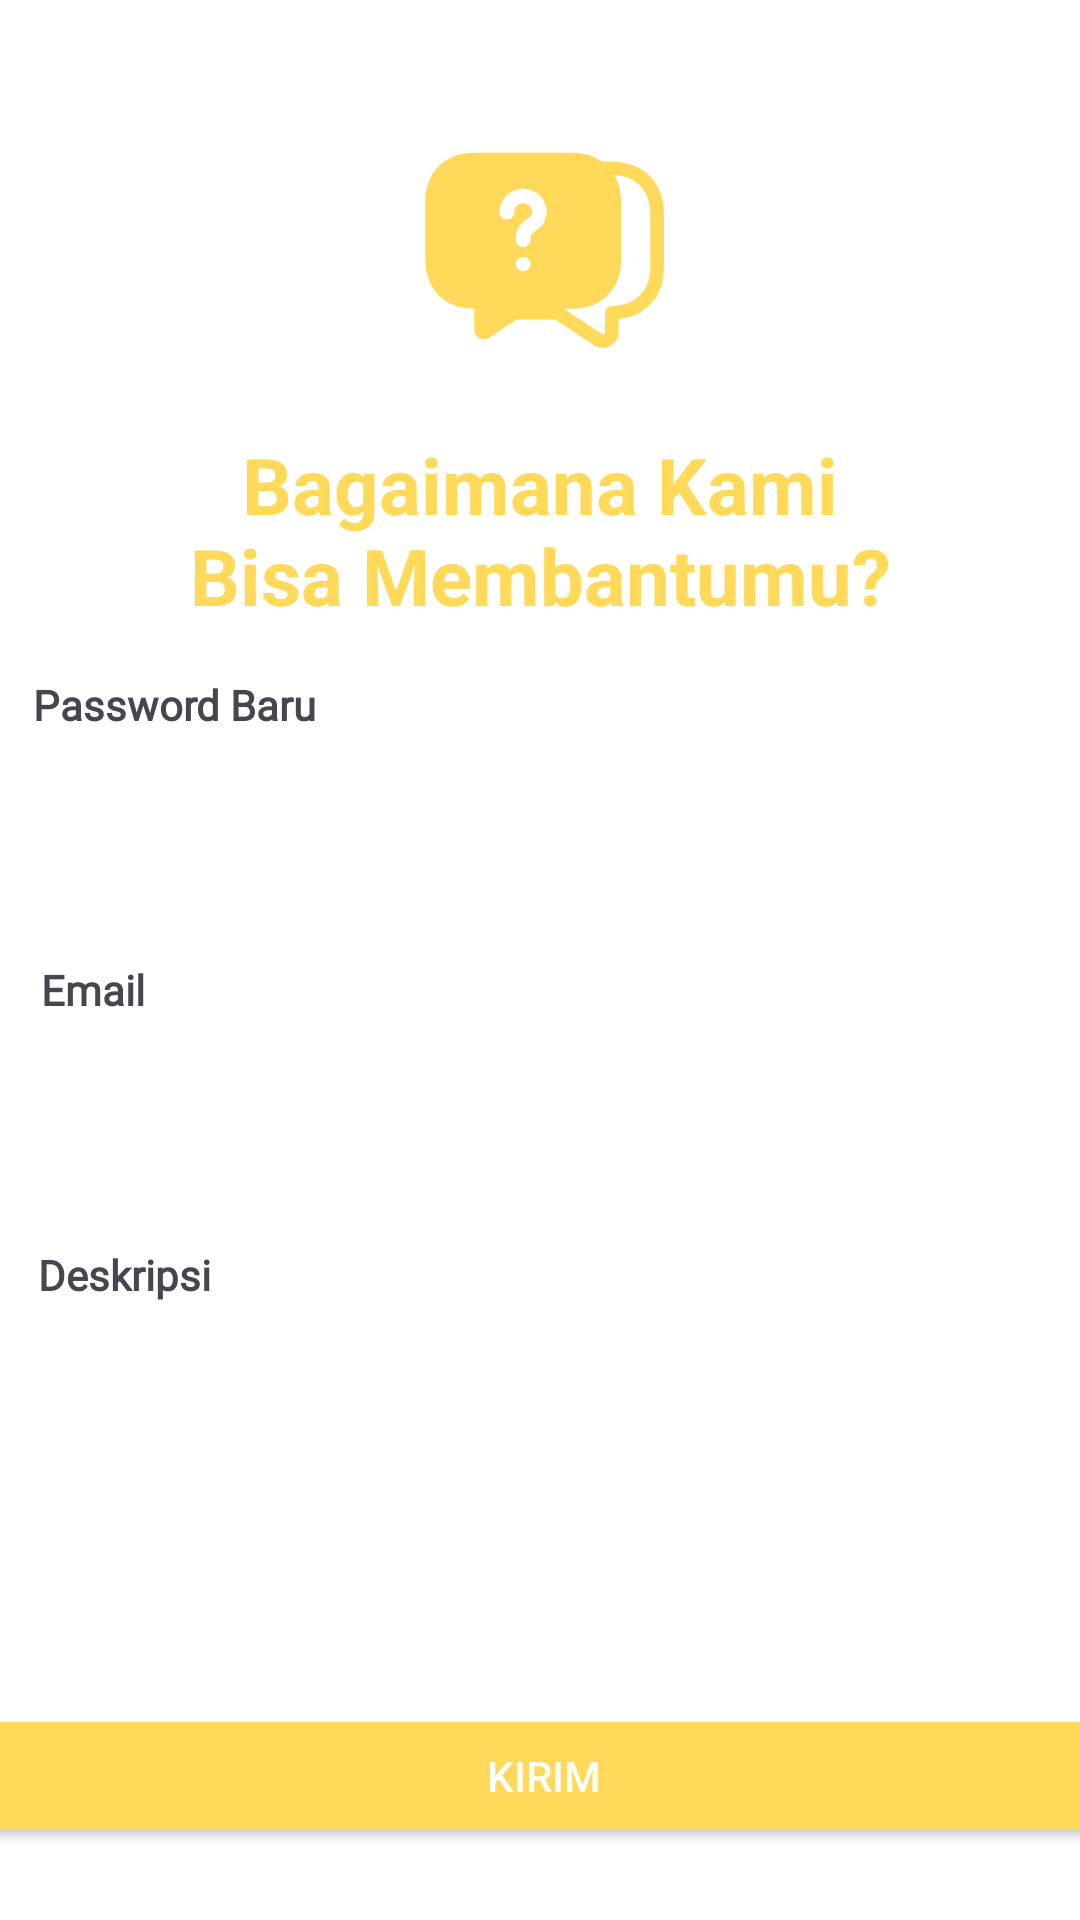

Where icons sit on this 1080*1920 app screen, as [x1, y1, x2, y2]:
help: [425, 152, 664, 348]
